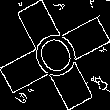O_SE: (24, 22, 86, 88)
